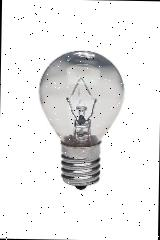lightbulb: (38, 50, 124, 190)
